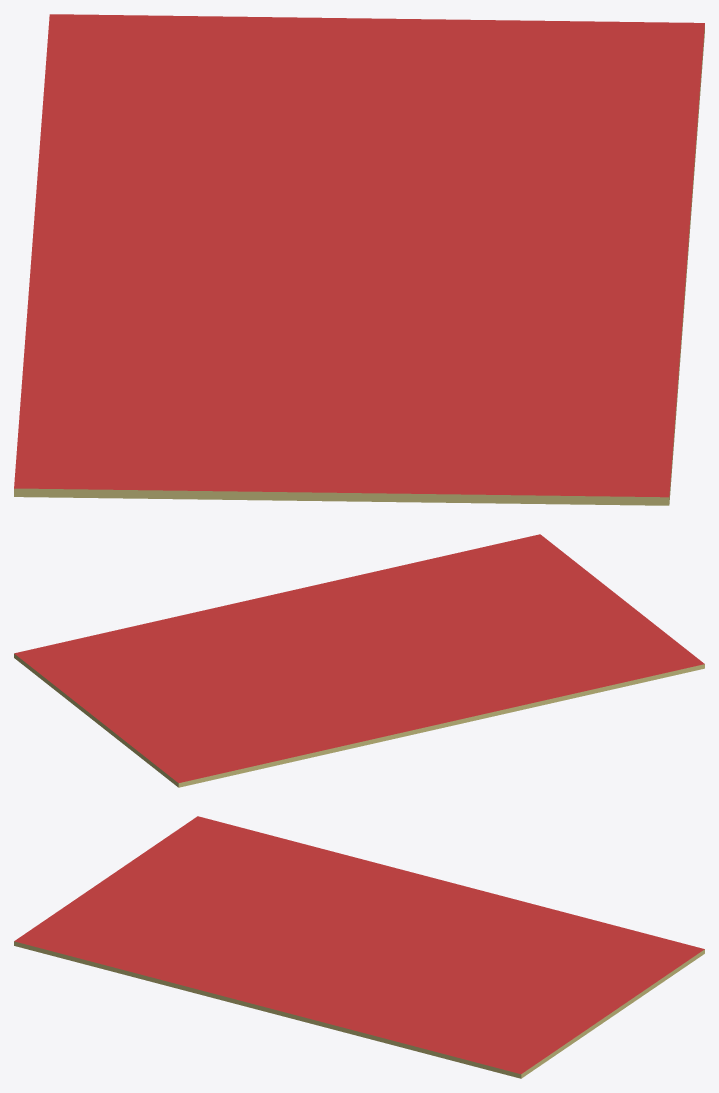
3 renders of one model, top to bottom at view 1: azimuth 30°, elevation 25°; view 2: azimuth 150°, elevation 25°; view 3: azimuth 270°, elevation 25°, orthographic. The views are drawn at different scales.
Visible parts, largest first — view 1: group_3, group_4; view 2: group_3, group_4; view 3: group_3, group_4.
Boxes of the visible parts, box(x1,y1,x2,y2) form: group_3: box(14, 14, 704, 497); group_4: box(14, 25, 704, 505); group_3: box(14, 534, 704, 782); group_4: box(14, 653, 704, 787); group_3: box(14, 816, 704, 1073); group_4: box(14, 941, 704, 1078).
Size of the model in its own units: 12.21 by 13.81 by 0.1.
